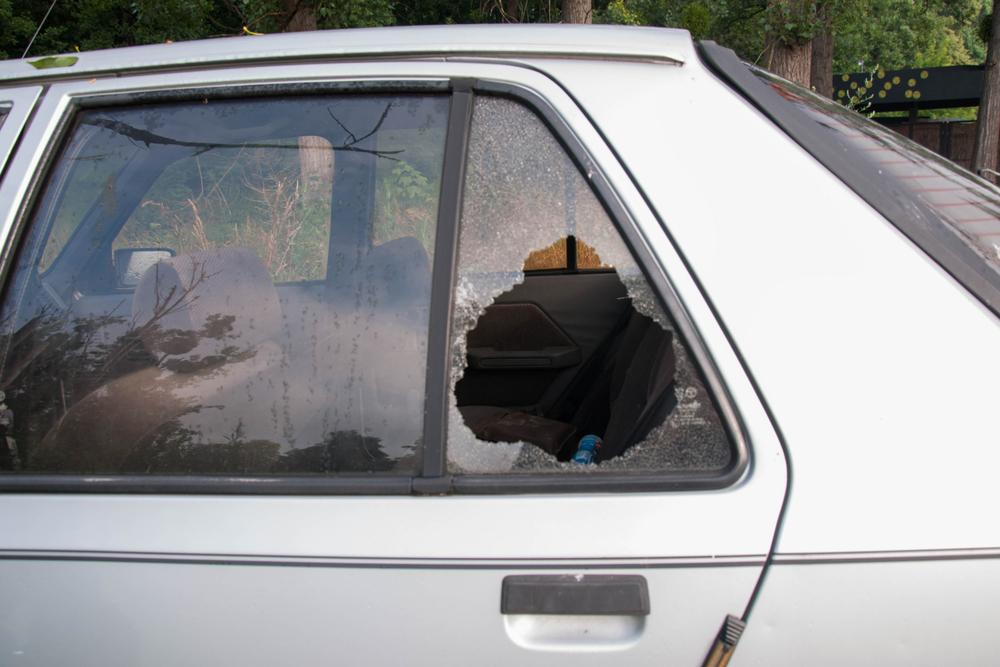glass shatter: (446, 94, 731, 474)
